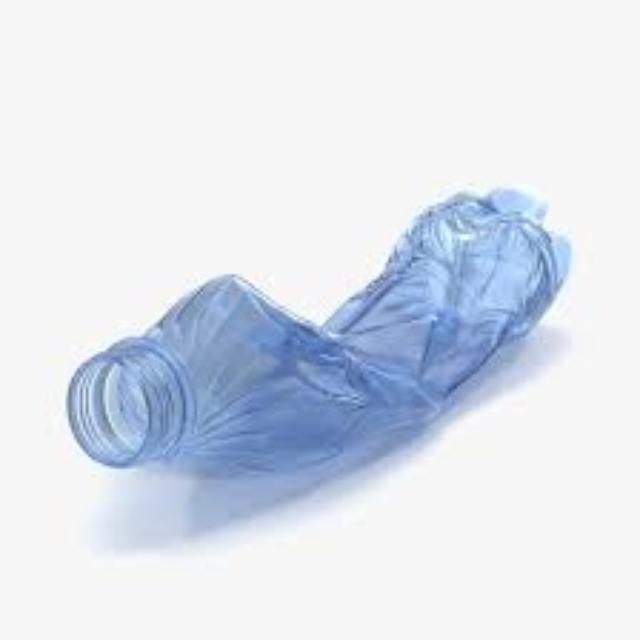plastic: (63, 186, 563, 483)
